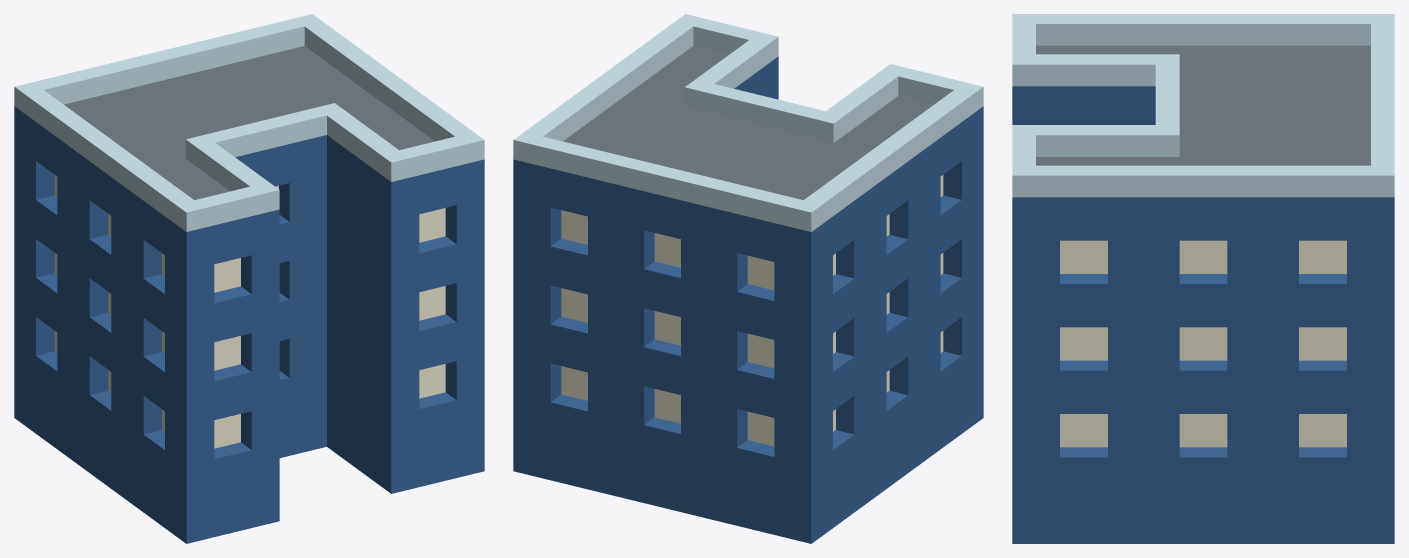
The model's file is Building_5 (Blue).obj.
The picture shows the model from 3 angles, left to right: view 1: azimuth 30°, elevation 25°; view 2: azimuth 150°, elevation 25°; view 3: azimuth 270°, elevation 25°; orthographic projection. The views are drawn at different scales.
Visible parts, largest first — view 1: Building_5_(Blue); view 2: Building_5_(Blue); view 3: Building_5_(Blue).
Part boxes in pixels (box(x1,y1,x2,y2)): Building_5_(Blue): box(14, 14, 484, 543); Building_5_(Blue): box(513, 14, 983, 543); Building_5_(Blue): box(1012, 14, 1394, 543).
Bounding box in the file's own units: 1.6 × 1.7 × 1.6.
